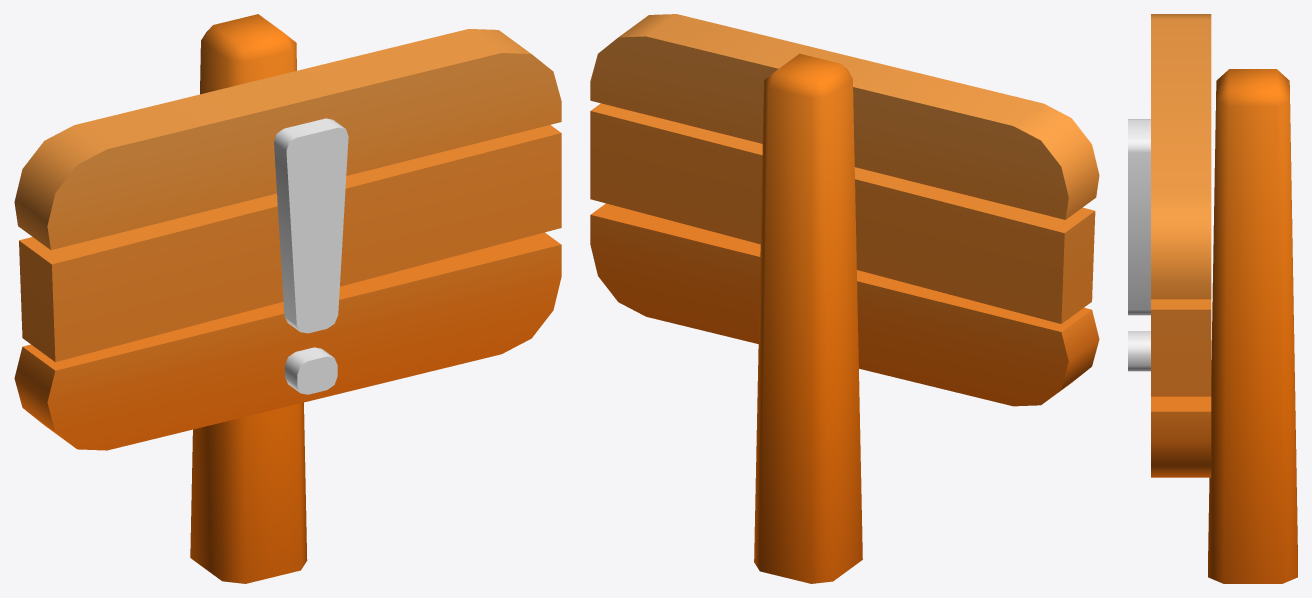
The model's file is Props_Wooden_Sign_09.fbx.
3 views of the same model, side by side, from view 1: azimuth 30°, elevation 25°; view 2: azimuth 150°, elevation 25°; view 3: azimuth 270°, elevation 25° (orthographic). The views are drawn at different scales.
Visible parts, largest first — view 1: Props_Wooden_Sign_09; view 2: Props_Wooden_Sign_09; view 3: Props_Wooden_Sign_09.
Part boxes in pixels (x1,y1,x2,y2): Props_Wooden_Sign_09: (14, 14, 561, 583); Props_Wooden_Sign_09: (590, 14, 1099, 583); Props_Wooden_Sign_09: (1128, 14, 1297, 583).
Size of the model in its own units: 90.11 by 88.8 by 28.16.
